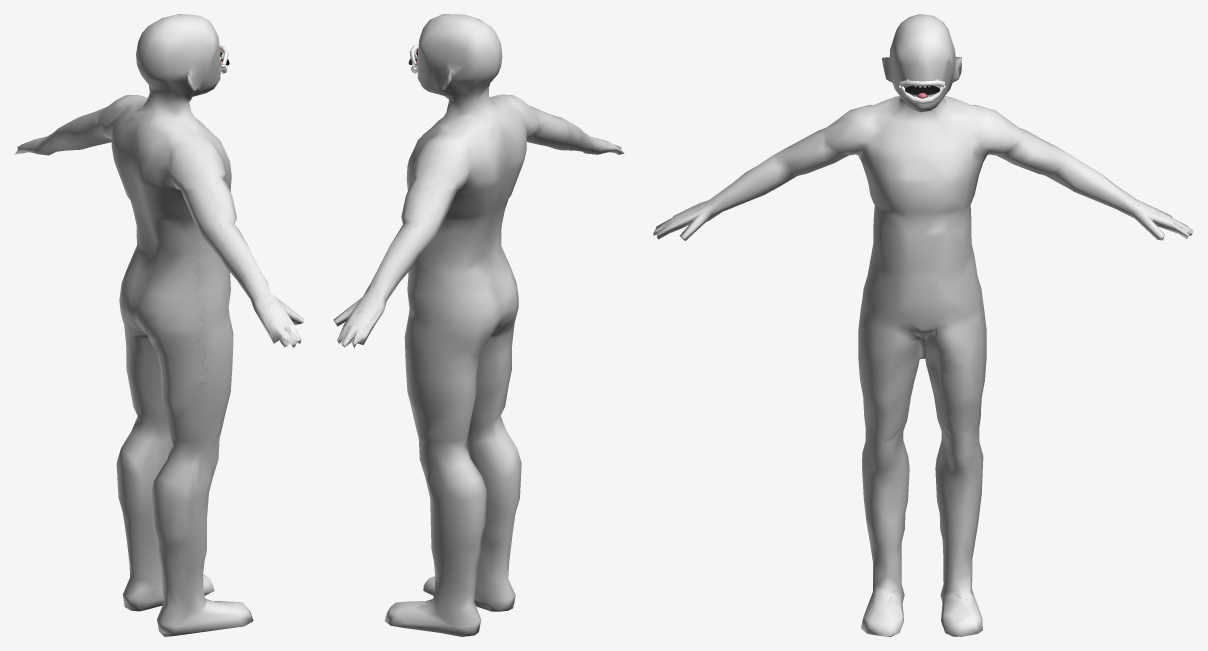
3 views of the same model, side by side, from view 1: azimuth 30°, elevation 25°; view 2: azimuth 150°, elevation 25°; view 3: azimuth 270°, elevation 25° (orthographic).
Parts seen in each view (by area): view 1: tripo_node_9b6dd445-87d8-4f80-be0e-4f4a166dedbe; view 2: tripo_node_9b6dd445-87d8-4f80-be0e-4f4a166dedbe; view 3: tripo_node_9b6dd445-87d8-4f80-be0e-4f4a166dedbe.
Boxes of the visible parts, <box> form: tripo_node_9b6dd445-87d8-4f80-be0e-4f4a166dedbe: <box>14,14,304,636</box>; tripo_node_9b6dd445-87d8-4f80-be0e-4f4a166dedbe: <box>333,14,624,636</box>; tripo_node_9b6dd445-87d8-4f80-be0e-4f4a166dedbe: <box>653,14,1193,636</box>.
Bounding box in the file's own units: 0.1817 × 0.9986 × 0.8235.
6 materials, 1 textured.
